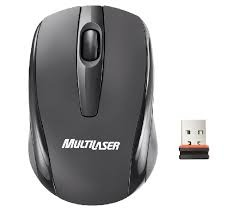mouse: (25, 7, 168, 205)
